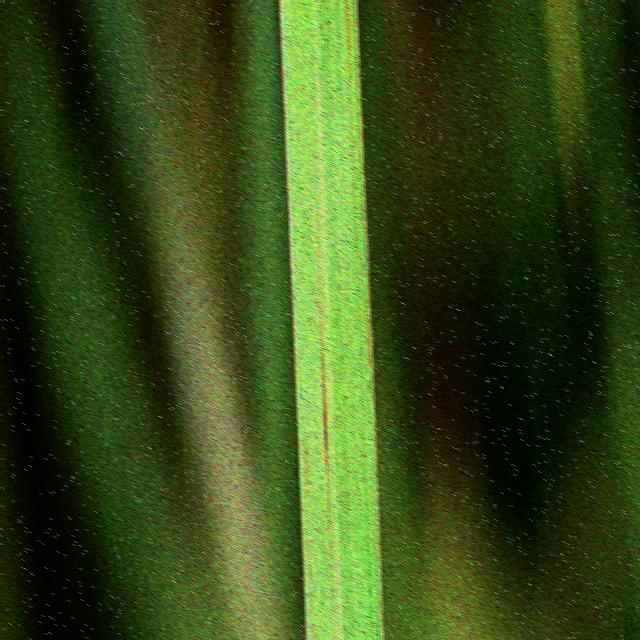BLS: (304, 433, 314, 640), (320, 339, 329, 520), (346, 0, 355, 129)
